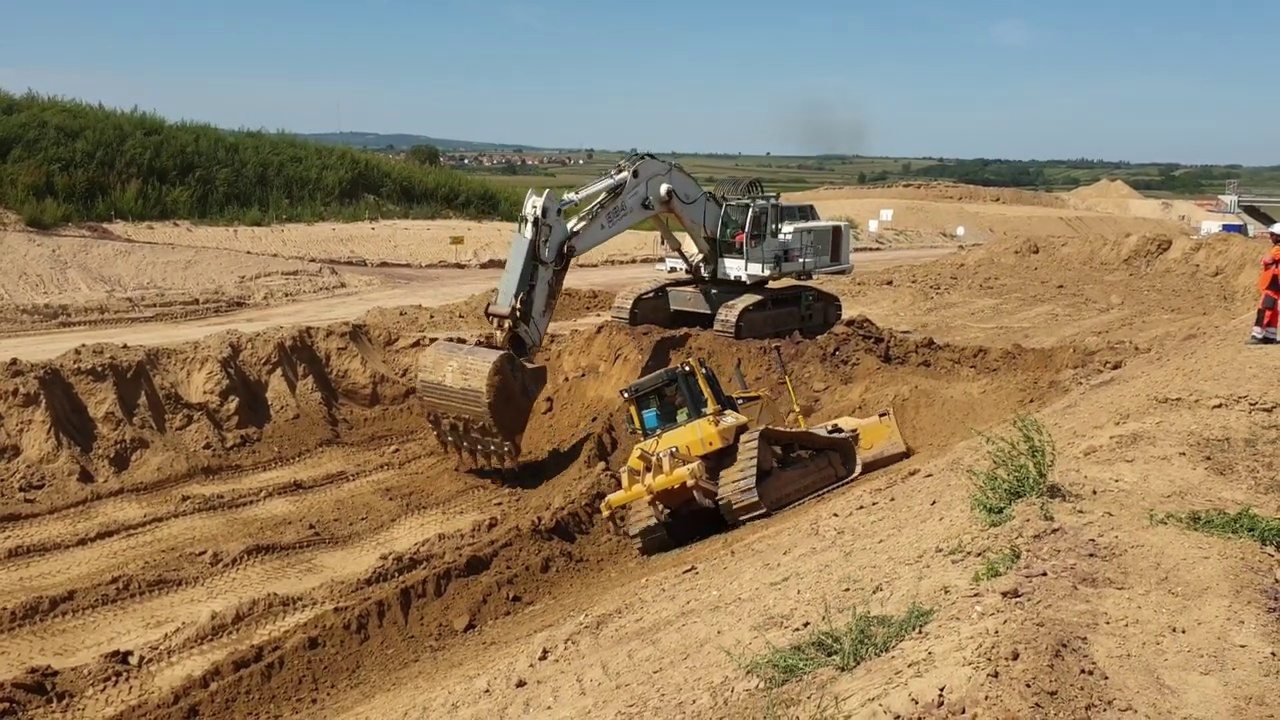bulldozer: (594, 341, 915, 557)
excavator: (412, 151, 859, 469)
worker: (1245, 216, 1280, 341)
